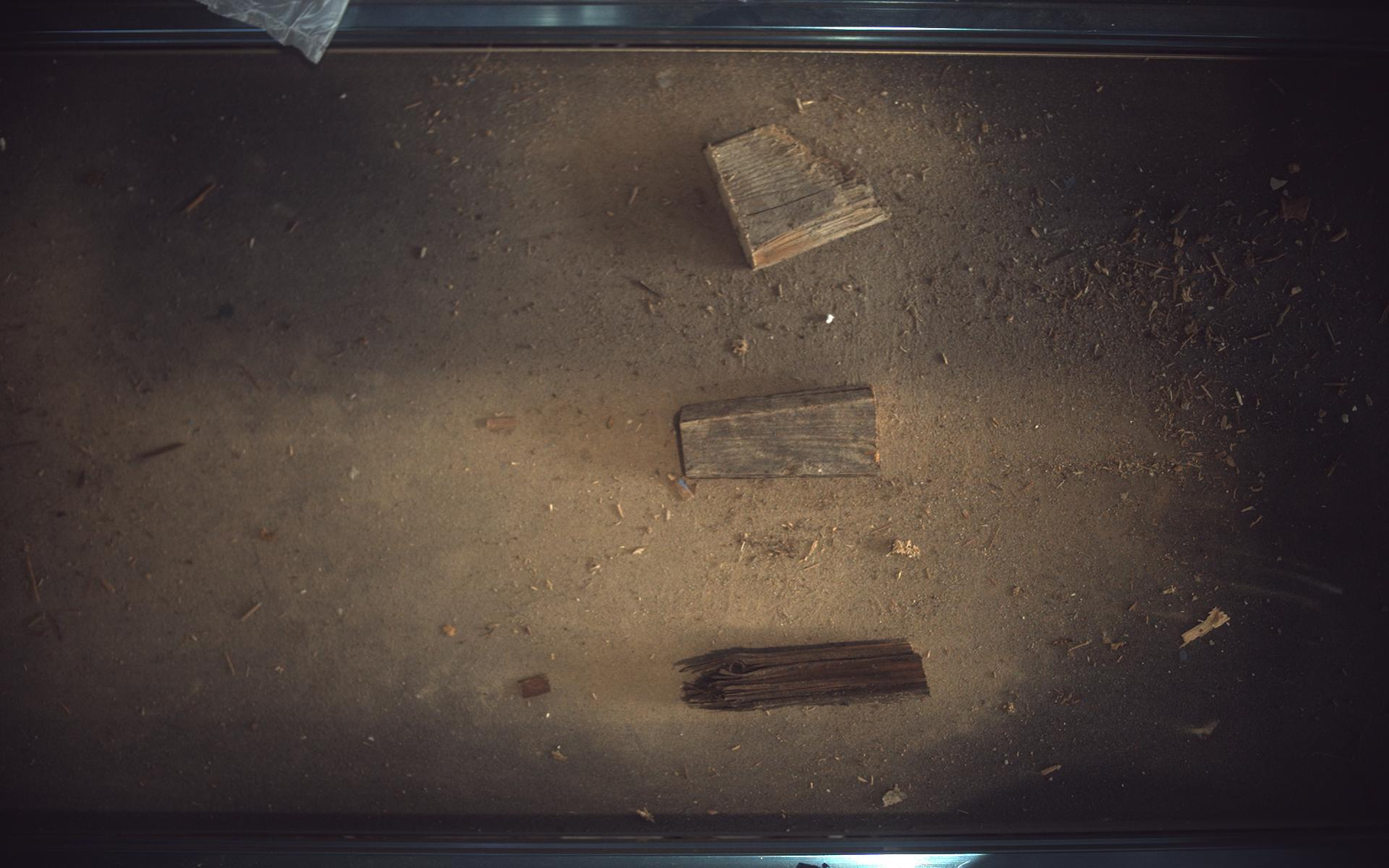wood: (706, 124, 891, 269), (679, 386, 881, 479), (675, 640, 931, 712)
